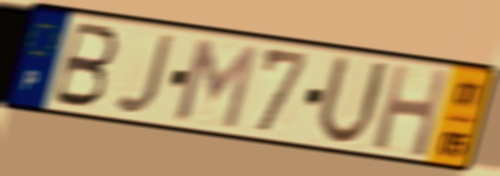7: (255, 45, 313, 136)
B: (48, 18, 121, 111)
H: (369, 60, 452, 161)
J: (113, 32, 179, 118)
M: (173, 35, 262, 133)
U: (312, 51, 392, 150)
